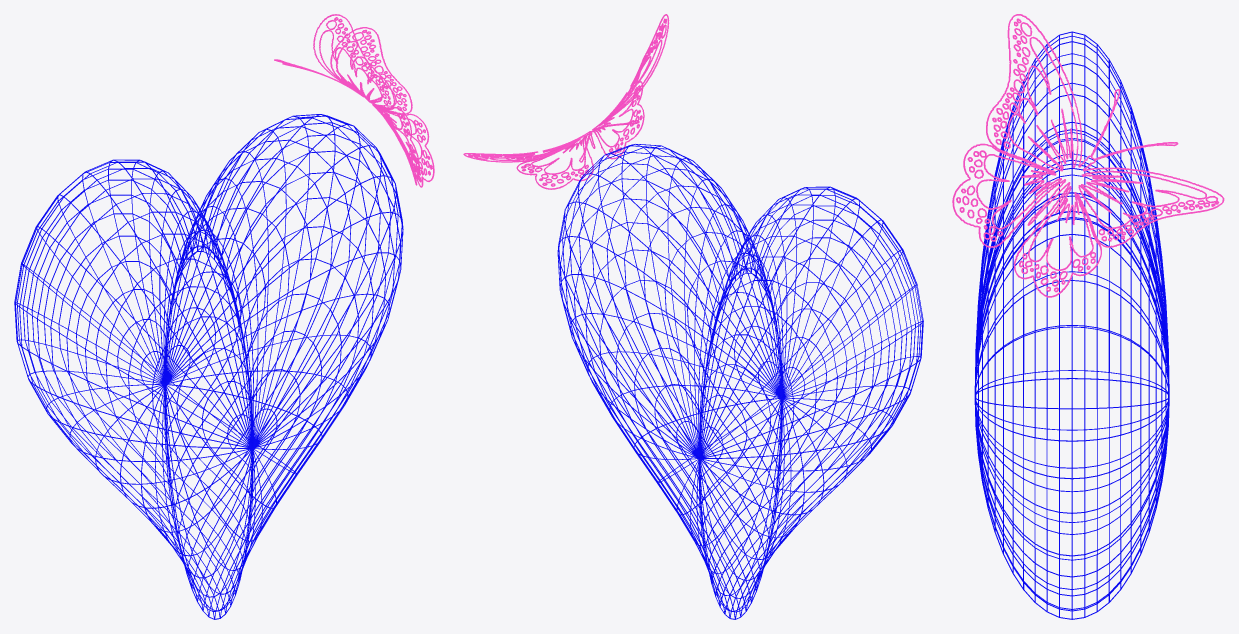
3 renders of one model, left to right at view 1: azimuth 30°, elevation 25°; view 2: azimuth 150°, elevation 25°; view 3: azimuth 270°, elevation 25°, orthographic. The views are drawn at different scales.
Bounding box in the file's own units: 0.9221 × 1.25 × 0.4666.
